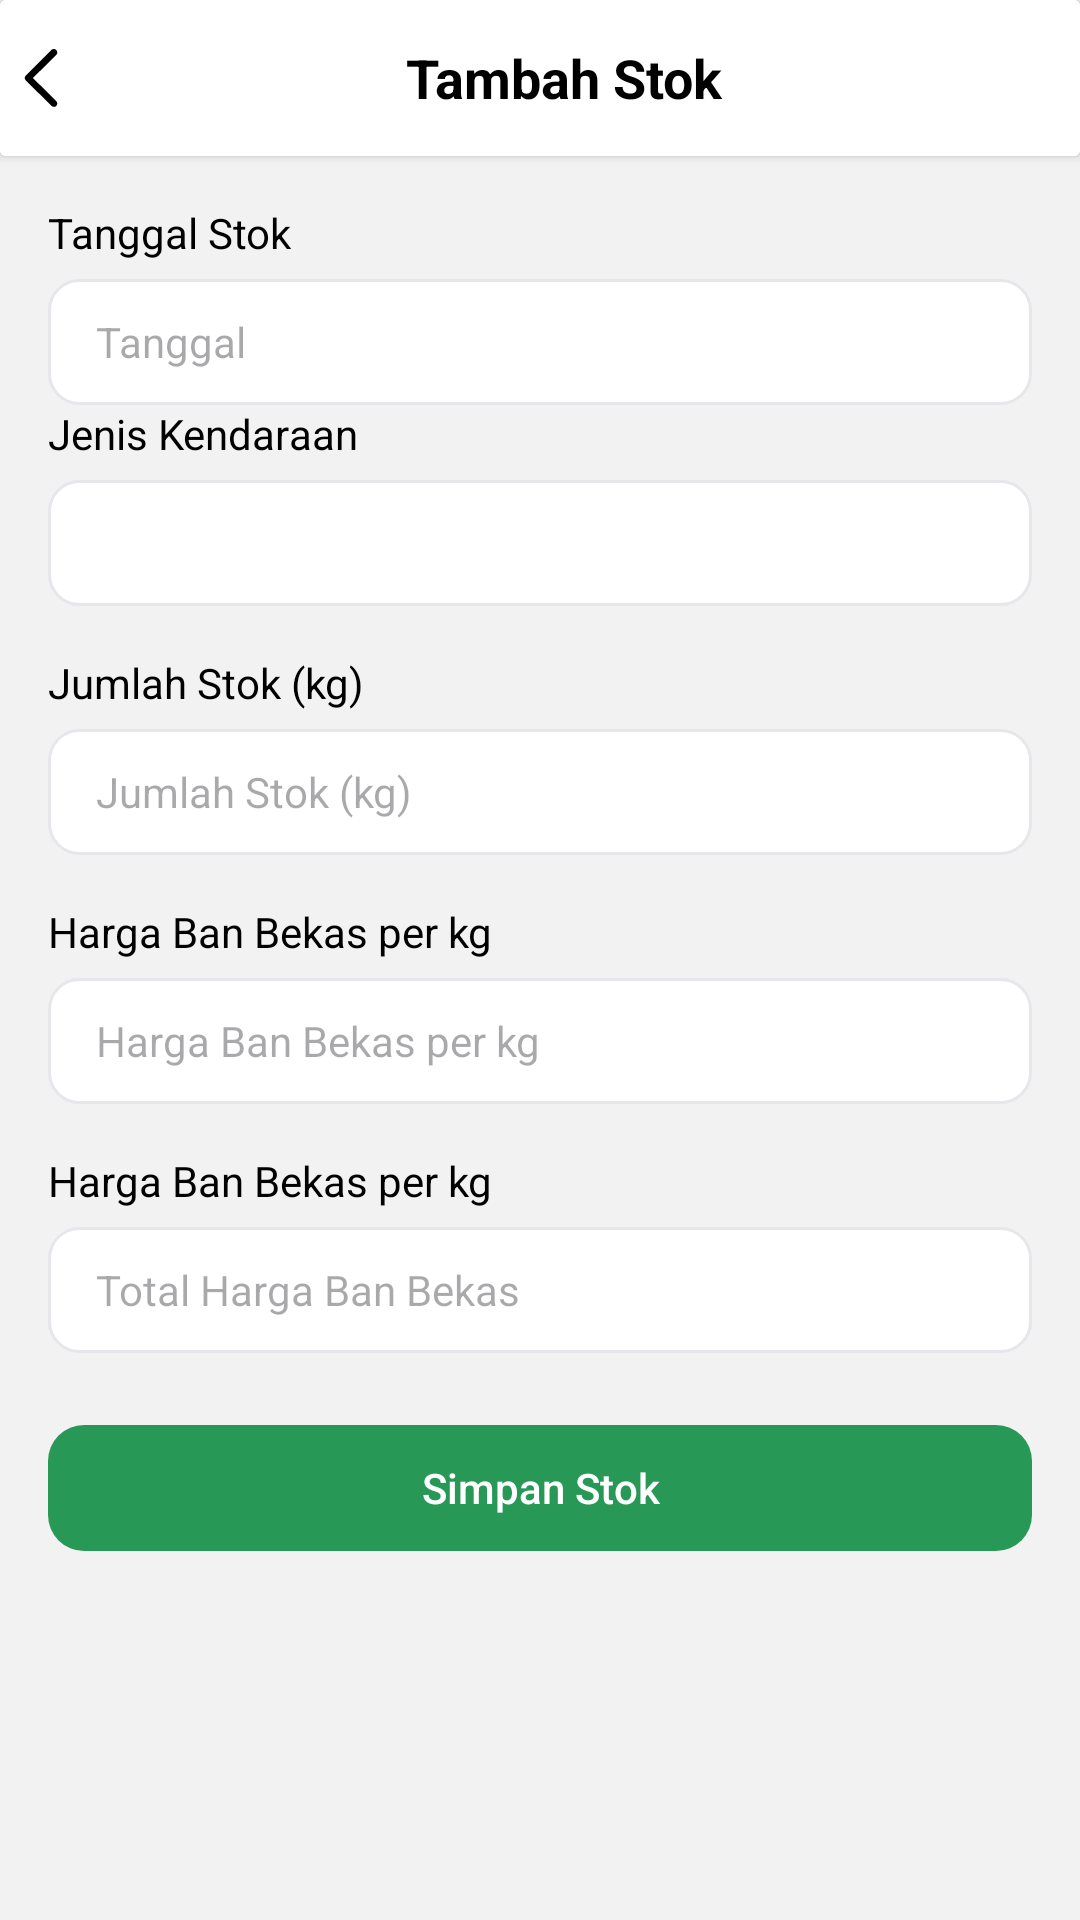

Icon bounding boxes for this 1080px x 1920px phone screenshot, format (x1, y1, x2, y2):
back: (24, 49, 58, 107)
